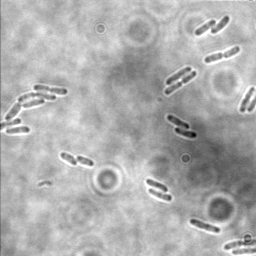Dividing: (164, 70, 197, 97), (203, 45, 240, 65), (238, 86, 255, 114), (223, 238, 256, 251)
Microcolony: (1, 83, 69, 136)
Rod: (164, 64, 192, 86), (188, 217, 220, 234), (193, 18, 216, 37), (210, 15, 231, 35), (166, 113, 190, 130), (147, 188, 173, 203), (145, 177, 168, 192), (173, 126, 198, 139), (59, 151, 78, 167), (76, 154, 95, 168), (230, 246, 256, 256)
